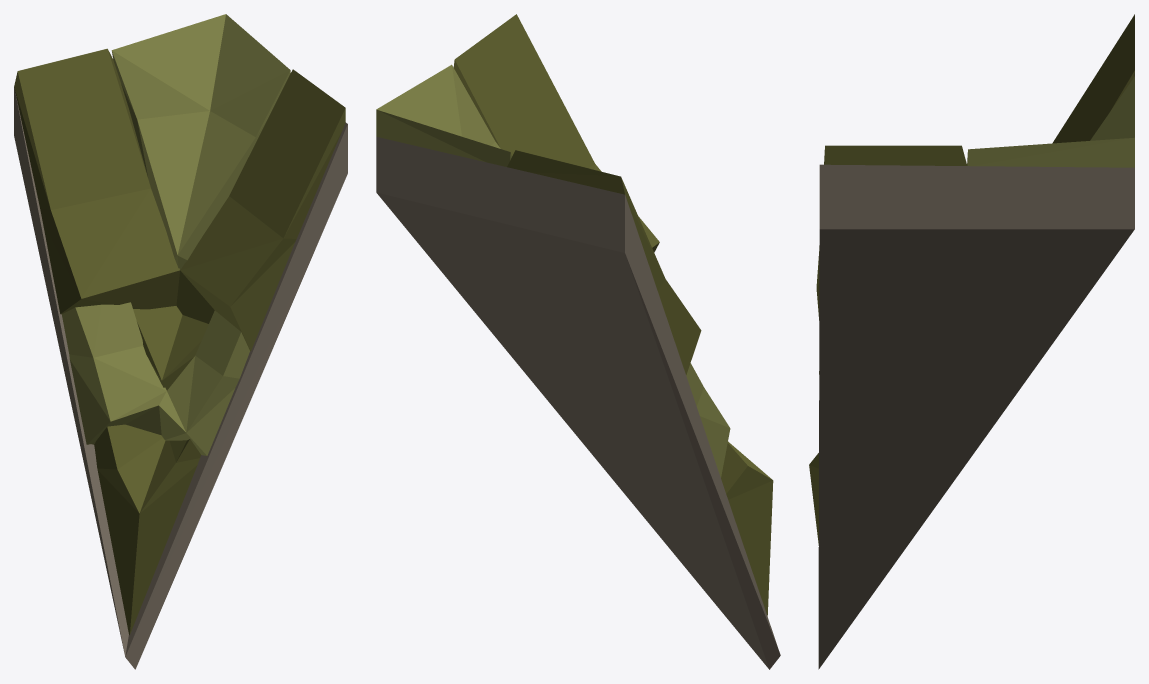
File: _ROOF_SMALL_INNER_CORNER_1.fbx
3 renders of one model, left to right at view 1: azimuth 30°, elevation 25°; view 2: azimuth 150°, elevation 25°; view 3: azimuth 270°, elevation 25°, orthographic. The views are drawn at different scales.
Parts seen in each view (by area): view 1: ROOF_SMALL_INNER_CORNER_1; view 2: ROOF_SMALL_INNER_CORNER_1; view 3: ROOF_SMALL_INNER_CORNER_1.
Part boxes in pixels (x1,y1,x2,y2): ROOF_SMALL_INNER_CORNER_1: [14, 14, 347, 669]; ROOF_SMALL_INNER_CORNER_1: [376, 14, 780, 669]; ROOF_SMALL_INNER_CORNER_1: [809, 14, 1134, 669].
Size of the model in its own units: 52.48 by 116 by 51.34.
